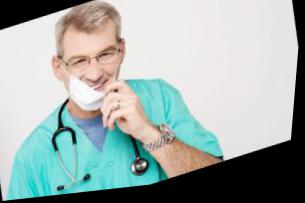WRONG: (55, 34, 133, 123)
